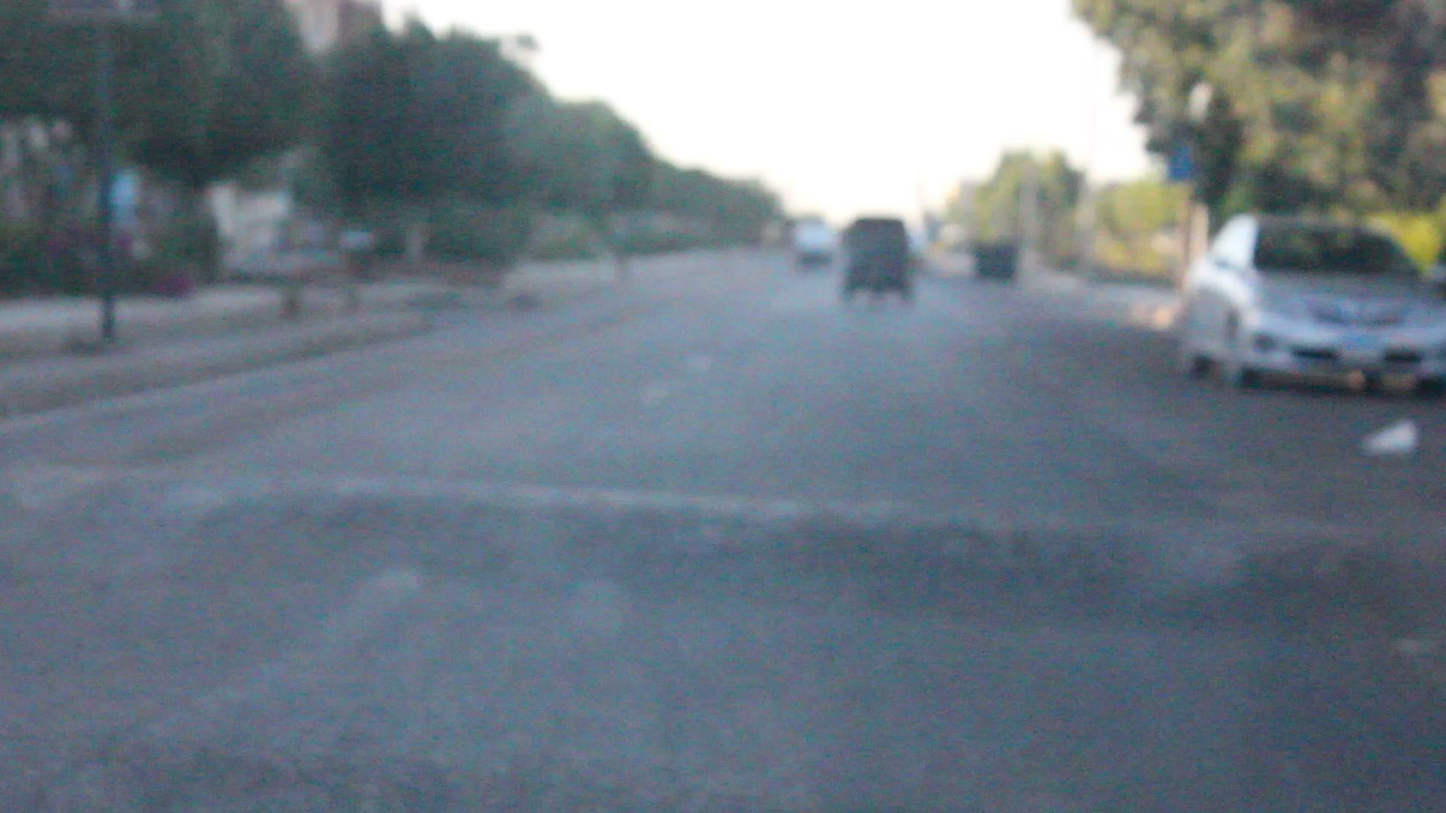Bump: (0, 458, 1445, 637)
